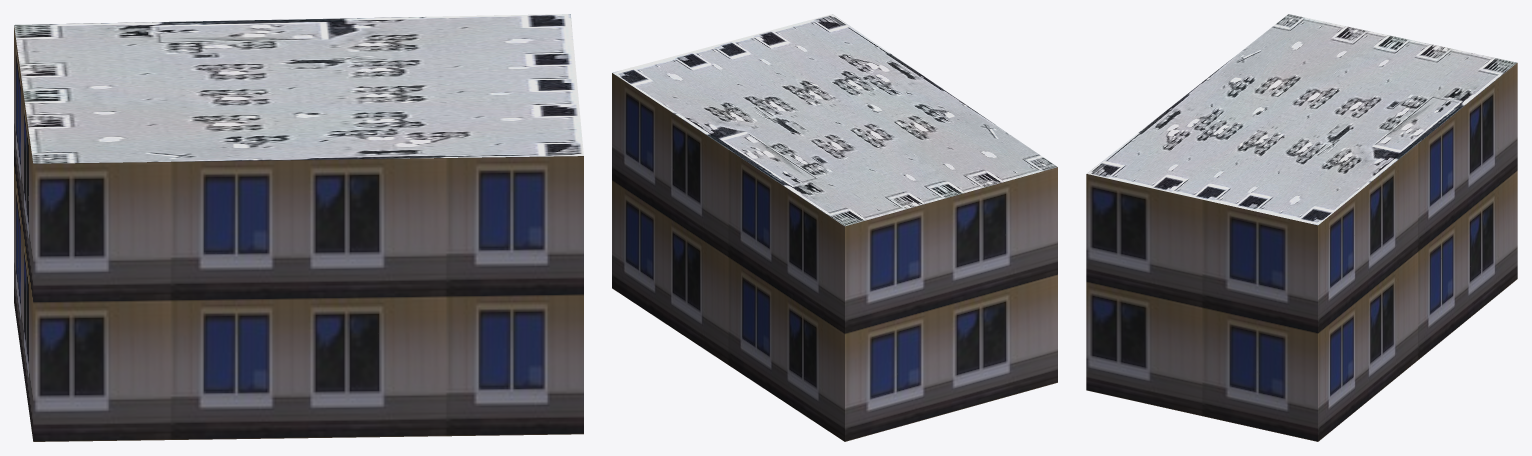
Rendered from ResTex__3255.fbx.
3 renders of one model, left to right at view 1: azimuth 30°, elevation 25°; view 2: azimuth 150°, elevation 25°; view 3: azimuth 270°, elevation 25°, orthographic. The views are drawn at different scales.
Visible parts, largest first — view 1: CityEngineMaterial_5_m, CityEngineMaterial_4_m; view 2: CityEngineMaterial_5_m, CityEngineMaterial_4_m; view 3: CityEngineMaterial_5_m, CityEngineMaterial_4_m.
Part boxes in pixels (x1,y1,x2,y2): CityEngineMaterial_5_m: (14, 26, 583, 441); CityEngineMaterial_4_m: (14, 14, 583, 163); CityEngineMaterial_5_m: (612, 73, 1057, 441); CityEngineMaterial_4_m: (612, 14, 1057, 226); CityEngineMaterial_5_m: (1086, 63, 1517, 441); CityEngineMaterial_4_m: (1086, 14, 1516, 225).
Size of the model in its own units: 12.56 by 6 by 10.82.
2 materials, 2 textured.
